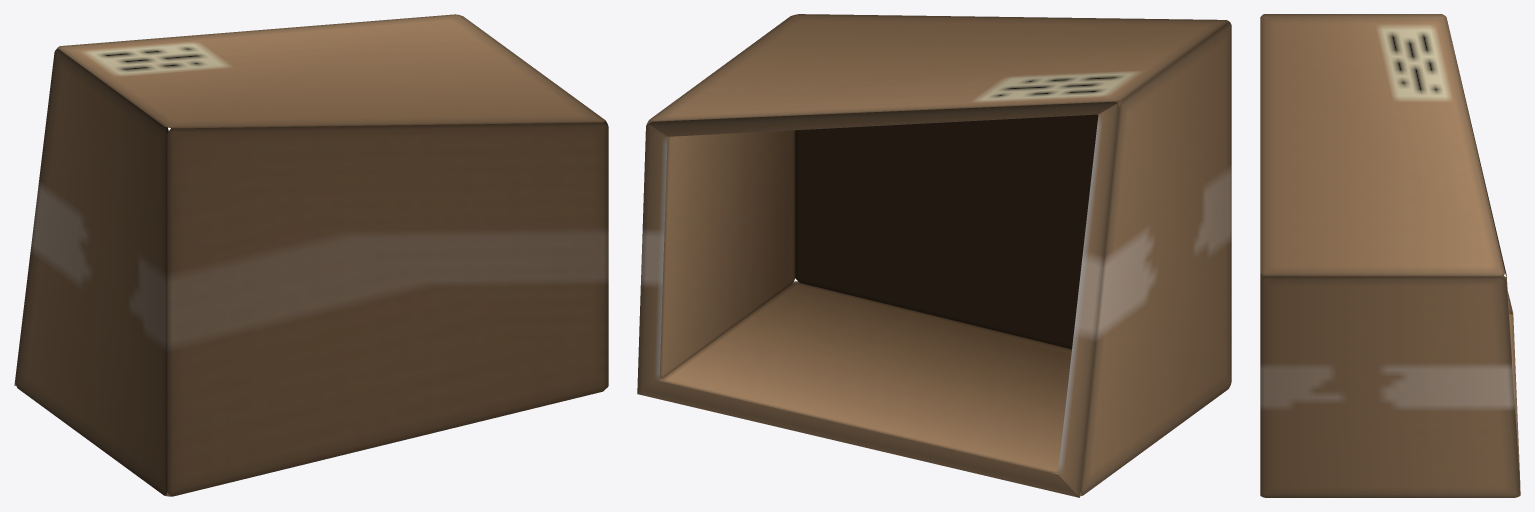
The model's file is RuinedRationBox.obj.
The picture shows the model from 3 angles, left to right: view 1: azimuth 30°, elevation 25°; view 2: azimuth 150°, elevation 25°; view 3: azimuth 270°, elevation 25°; orthographic projection. The views are drawn at different scales.
Parts seen in each view (by area): view 1: Box; view 2: Box; view 3: Box.
Part boxes in pixels (x1,y1,x2,y2): Box: (14, 14, 608, 496); Box: (637, 14, 1231, 497); Box: (1260, 14, 1520, 497).
Bounding box in the file's own units: 0.3125 × 0.25 × 0.193.
1 material, 1 textured.
